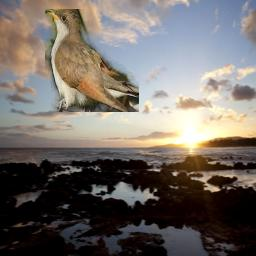Cuckoo: (45, 9, 139, 112)
